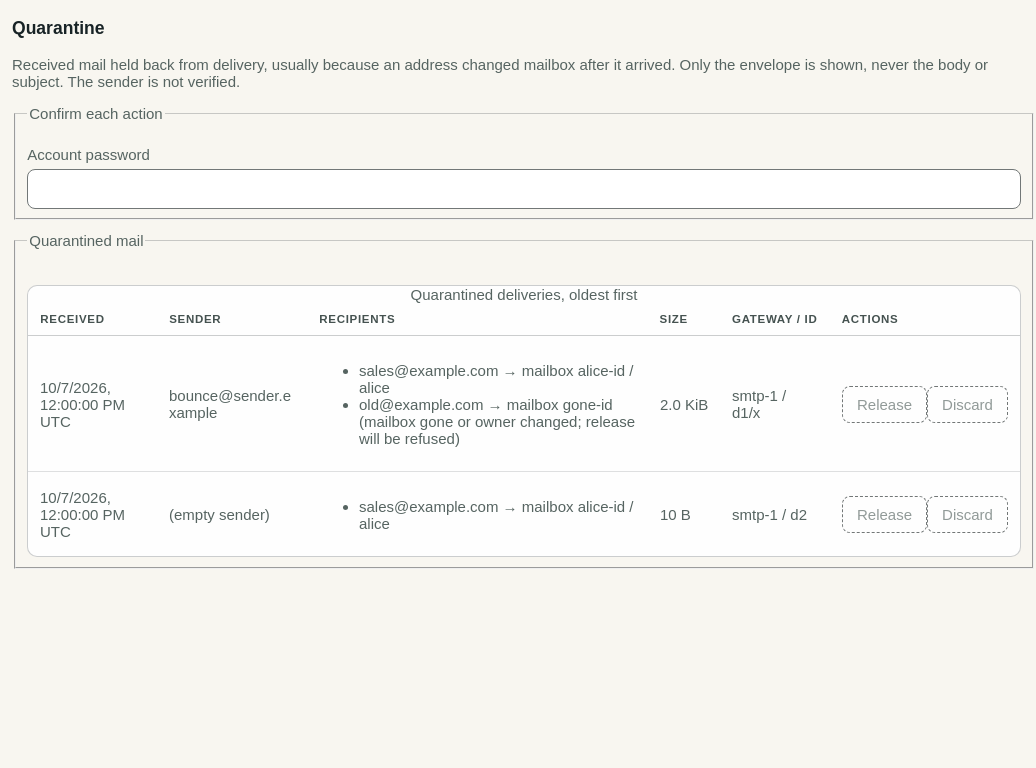
Test: locks until reload when no answer arrived
The image size is (1036, 768).
Expected: the text "bounce@sender.example" is shown, [157,336,307,472]
Step 1. Type "account-secret" into the password field labelled "Account password" → [524, 189], box [27,169,1021,209]
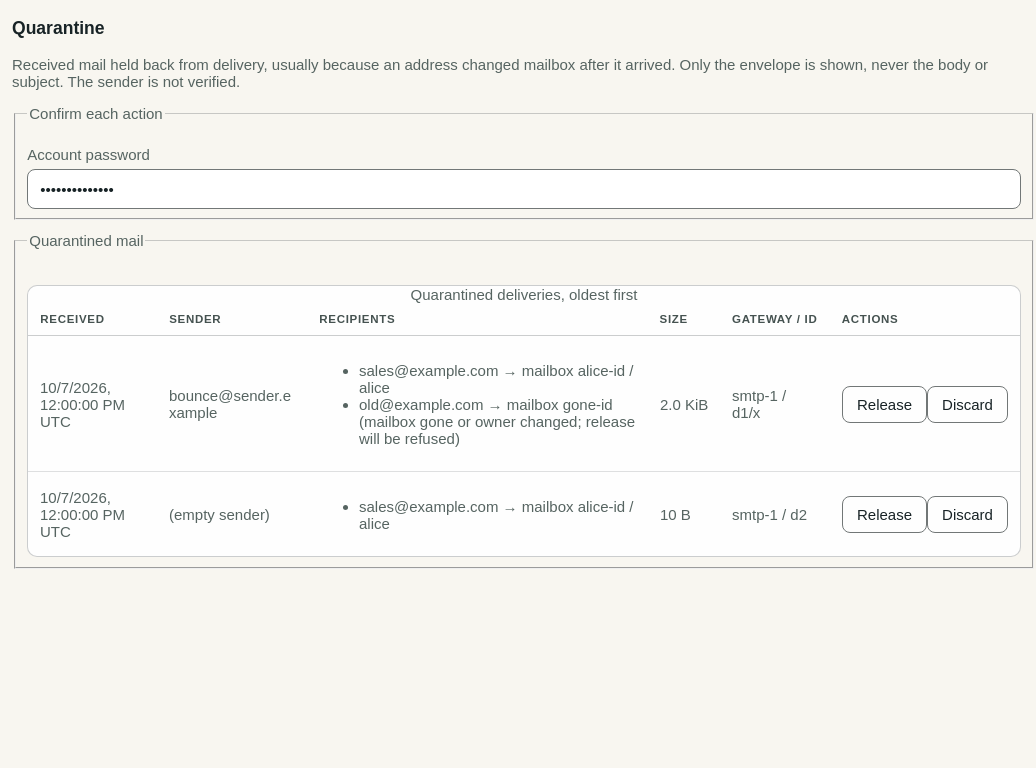
Step 2. Click the button with aria-label "Release smtp-1 / d1/x" → [884, 404], box [842,386,927,422]
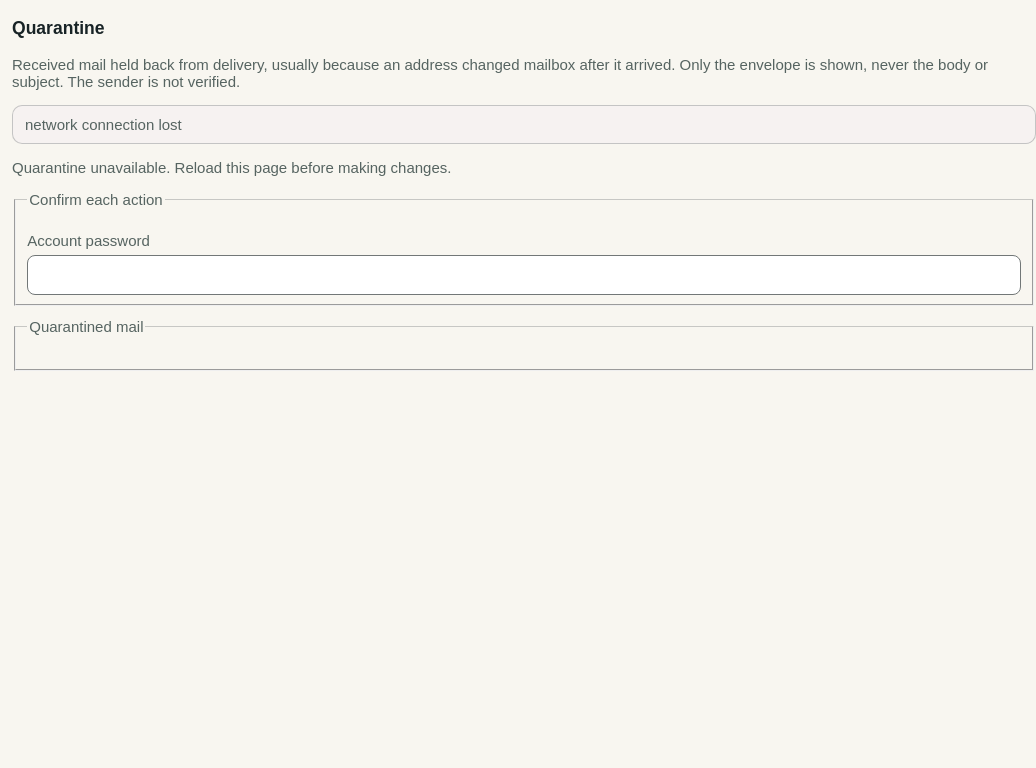
Expected: the message reads "network connection lost", [25,116,182,133]
Expected: the text "Quarantine unavailable. Reload this page before making changes." is shown, [12,159,452,176]
Expected: the element "Confirm each action" is disabled, [14,191,1034,306]
